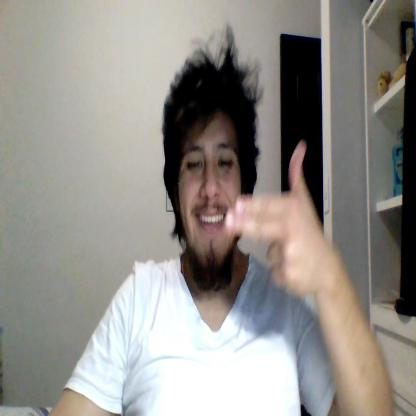H: (226, 141, 325, 295)
